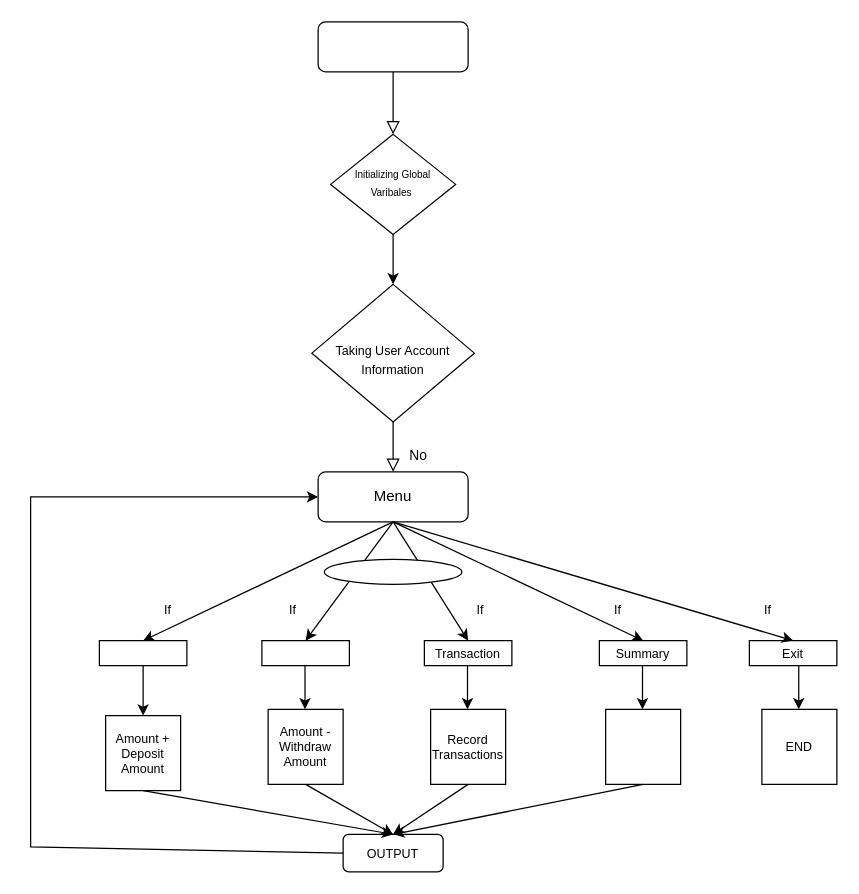
This 859x894 diagram has some shape labels left out. The box of each missing label's shape, as (x1, y1, x2, y2) in pixels:
Bank Accout: (317, 21, 468, 72)
Choose: (323, 558, 462, 584)
Deposit: (98, 639, 187, 666)
Name, Acc No., Amount: (604, 708, 681, 784)
Withdraw: (261, 639, 349, 666)
